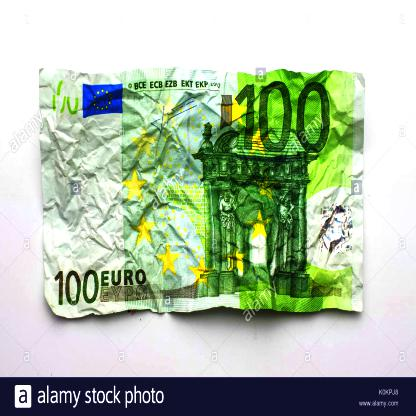euro_banknote: (40, 67, 367, 318)
